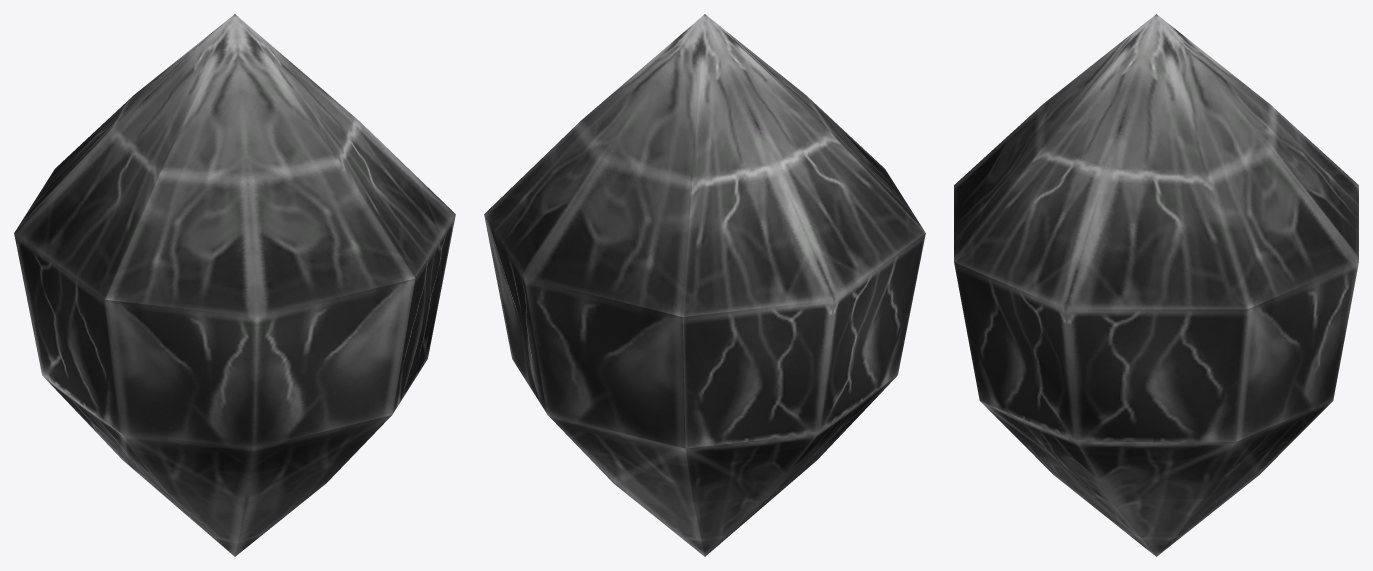
File: CrystalCore.FBX
3 views of the same model, side by side, from view 1: azimuth 30°, elevation 25°; view 2: azimuth 150°, elevation 25°; view 3: azimuth 270°, elevation 25° (orthographic).
Visible parts, largest first — view 1: core01_01_SM; view 2: core01_01_SM; view 3: core01_01_SM.
Boxes of the visible parts, x1=… form: core01_01_SM: x1=14, y1=14, x2=455, y2=556; core01_01_SM: x1=484, y1=14, x2=925, y2=556; core01_01_SM: x1=954, y1=14, x2=1358, y2=556.
Size of the model in its own units: 230 by 340 by 230.
